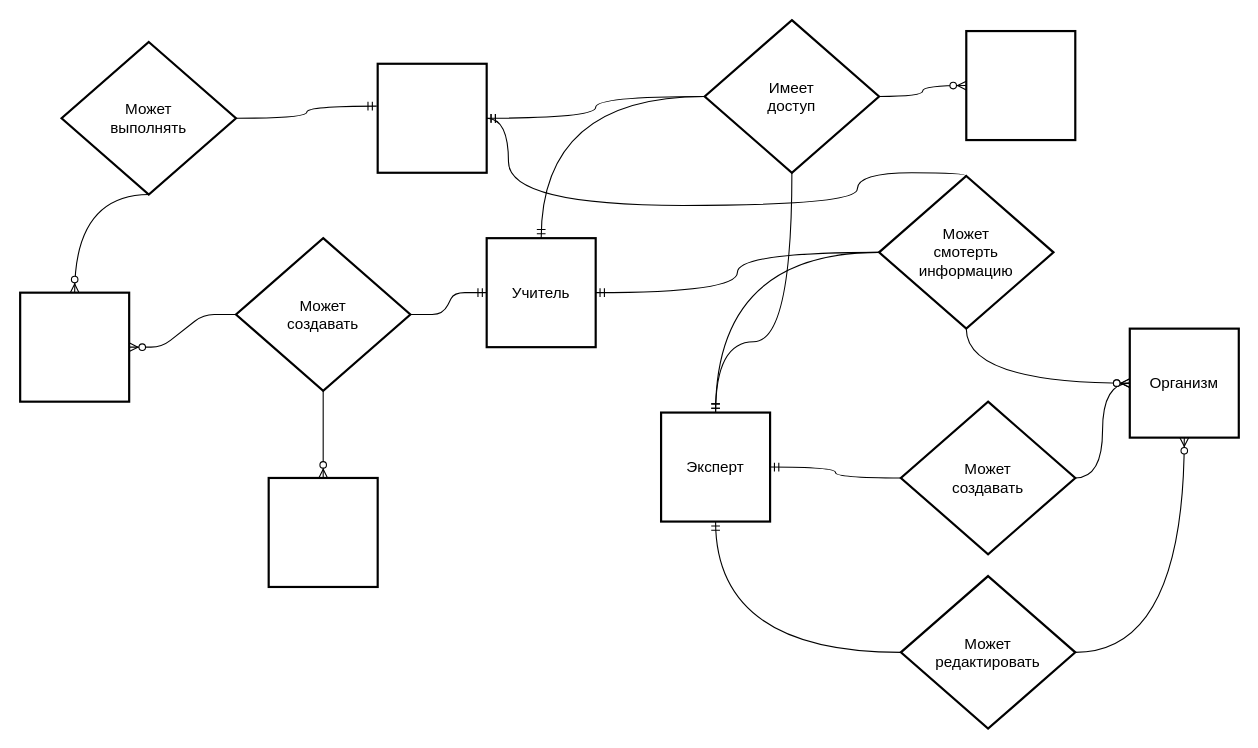
Some shapes in this 1258 by 748 pixel diagram are drawn without their labels. The shapes that lost their labels are listed below. From the top down, each one's centre as x and y in pixels, then its label:
(x=1020, y=85): GUI
(x=431, y=117): Ученик
(x=74, y=346): Тест
(x=322, y=532): Вопрос
